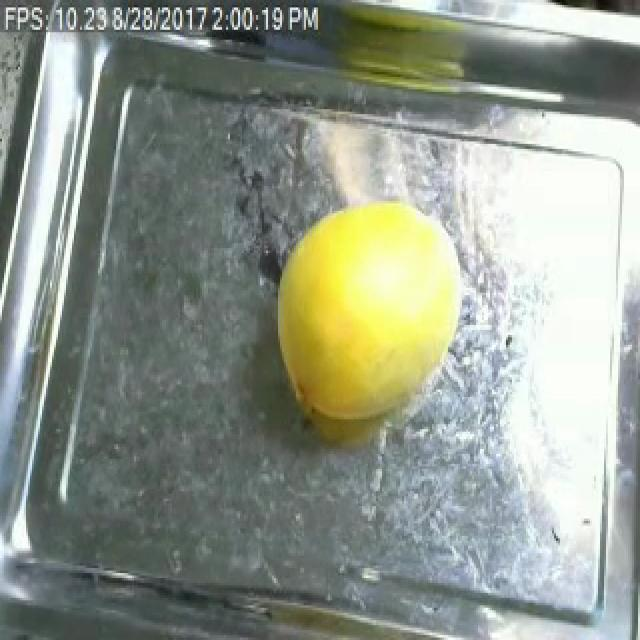fruit: (256, 176, 480, 444), (304, 0, 492, 117)
